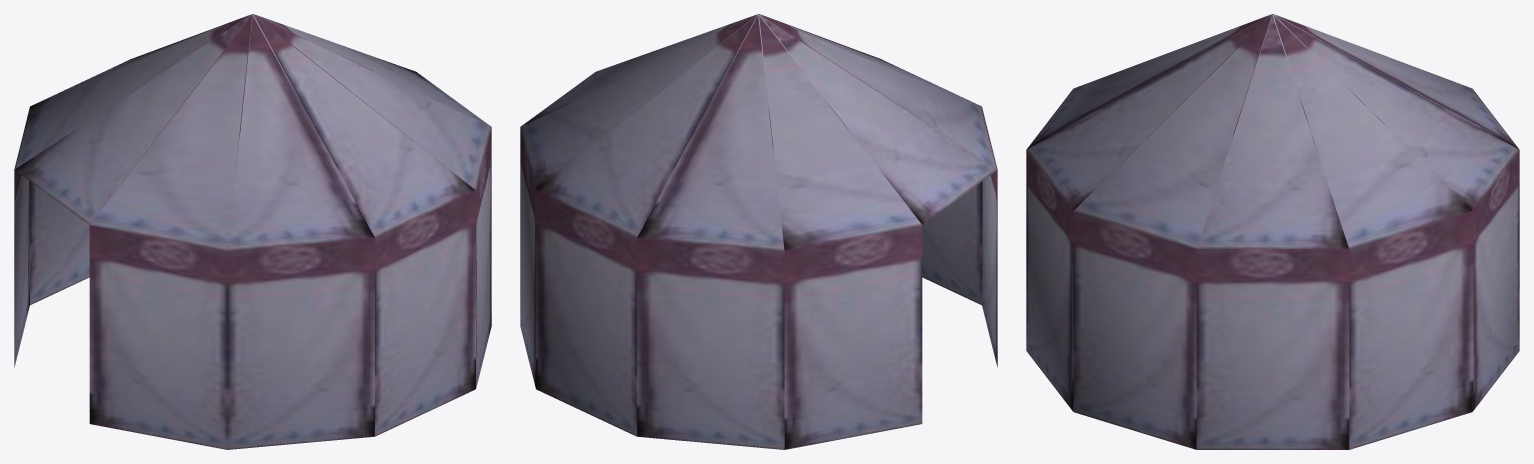
Rendered from tent.glb.
3 views of the same model, side by side, from view 1: azimuth 30°, elevation 25°; view 2: azimuth 150°, elevation 25°; view 3: azimuth 270°, elevation 25° (orthographic).
Visible parts, largest first — view 1: tent.ms3d.mo; view 2: tent.ms3d.mo; view 3: tent.ms3d.mo.
Part boxes in pixels (left/top/right/bottom): tent.ms3d.mo: left=14, top=14, right=491, bottom=449; tent.ms3d.mo: left=520, top=14, right=997, bottom=449; tent.ms3d.mo: left=1026, top=14, right=1519, bottom=449.
Bounding box in the file's own units: 75.76 × 59.89 × 79.66.
1 material, 1 textured.
